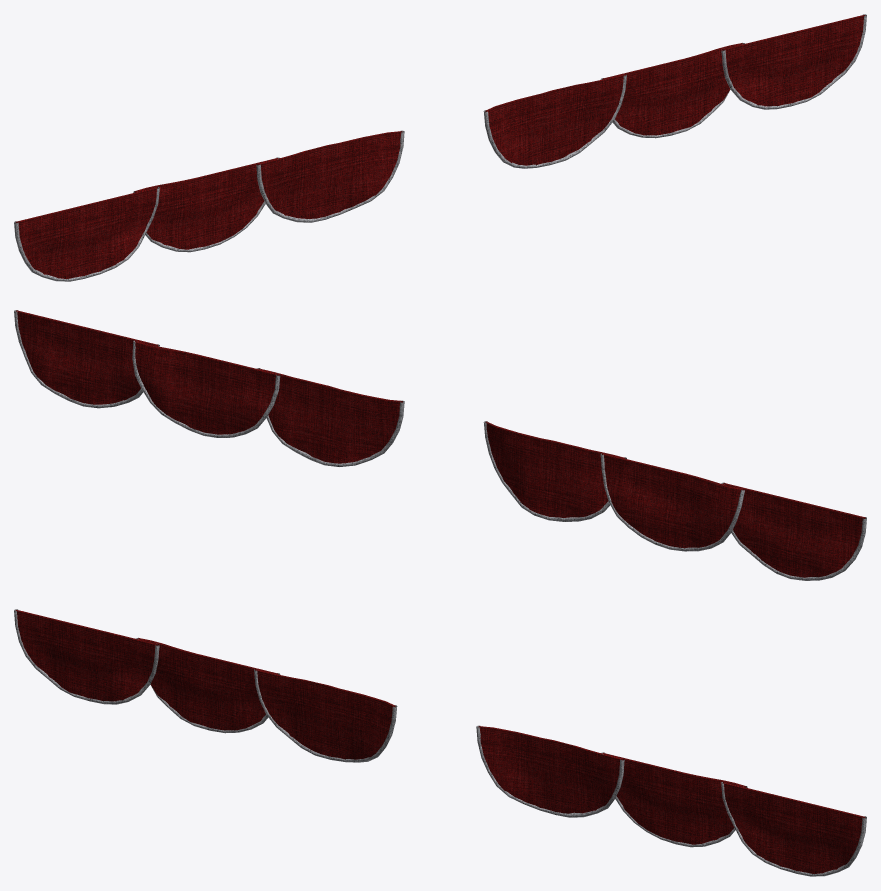
File: gb_curtains.fbx
3 views of the same model, one above another, from view 1: azimuth 30°, elevation 25°; view 2: azimuth 150°, elevation 25°; view 3: azimuth 330°, elevation 25° (orthographic).
Visible parts, largest first — view 1: gb_curtain_hang; view 2: gb_curtain_hang; view 3: gb_curtain_hang.
Boxes of the visible parts, box(x1,y1,x2,y2) form: gb_curtain_hang: box(14, 14, 866, 281); gb_curtain_hang: box(14, 310, 866, 580); gb_curtain_hang: box(14, 609, 866, 876).
Bounding box in the file's own units: 2122 × 183 × 44.81.
